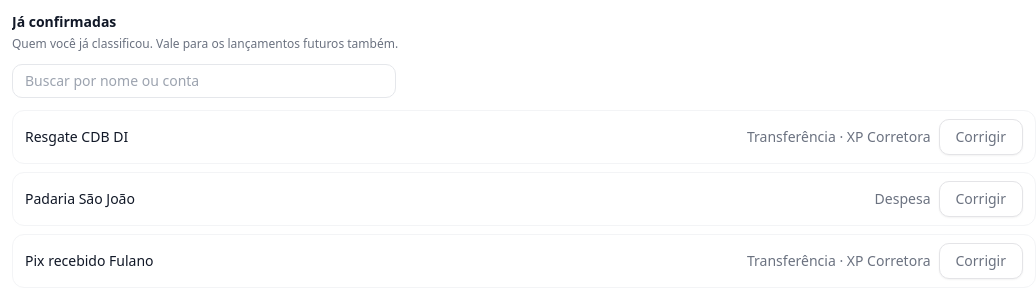
it: RegrasConfirmadas — busca › sem resultado avisa
Type "nubank" into the search field named "Buscar regra" at (204, 81), box [12,64,396,98]
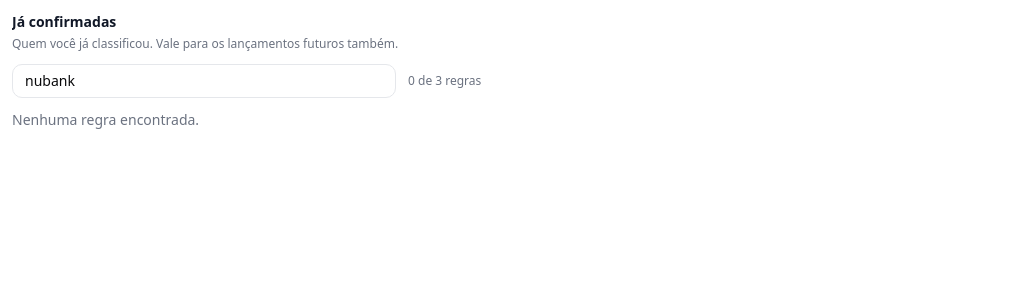
Now the text "Nenhuma regra encontrada." is shown, box [12,110,199,129]
